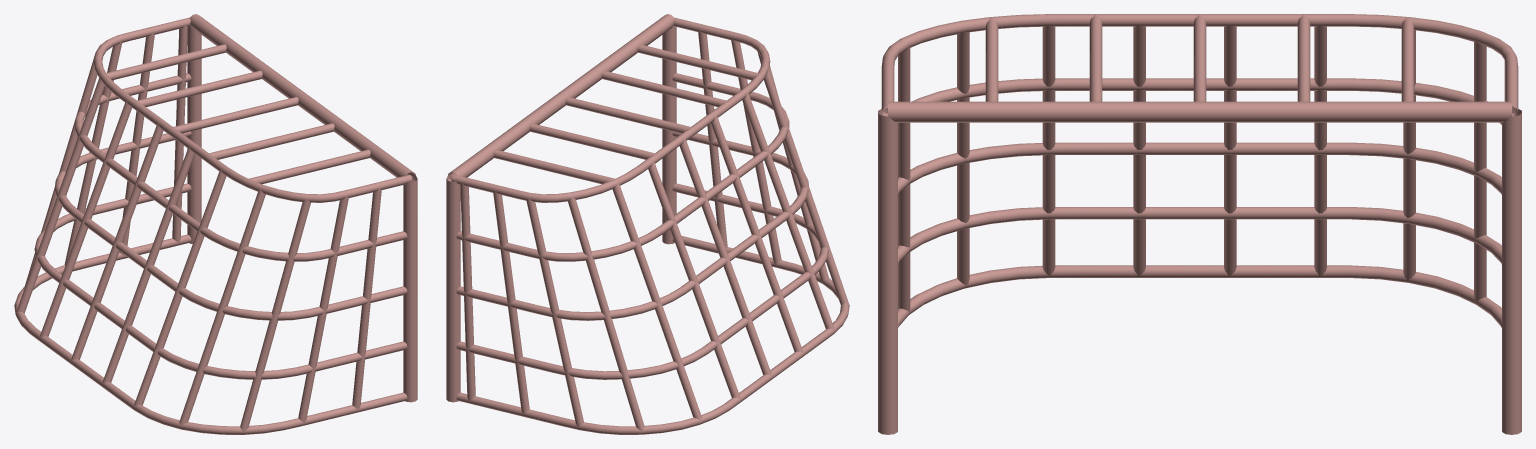
Rendered from goal.glb.
3 views of the same model, side by side, from view 1: azimuth 30°, elevation 25°; view 2: azimuth 150°, elevation 25°; view 3: azimuth 270°, elevation 25° (orthographic). The views are drawn at different scales.
Visible parts, largest first — view 1: Goal; view 2: Goal; view 3: Goal.
Part boxes in pixels (x1=…): Goal: x1=14, y1=14, x2=417, y2=434; Goal: x1=446, y1=14, x2=849, y2=434; Goal: x1=878, y1=14, x2=1521, y2=434.
Size of the model in its own units: 0.054 by 0.0514 by 0.0916.
